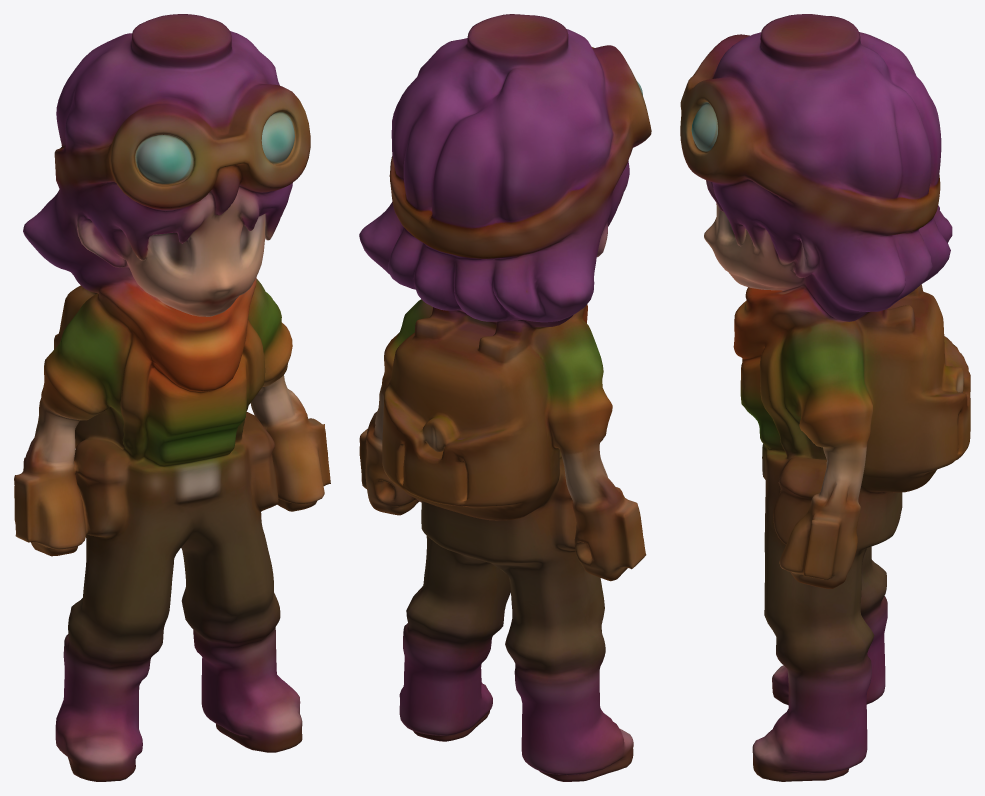
Rendered from anands-tripo-h31.glb.
3 views of the same model, side by side, from view 1: azimuth 30°, elevation 25°; view 2: azimuth 150°, elevation 25°; view 3: azimuth 270°, elevation 25° (orthographic).
Parts seen in each view (by area): view 1: tripo_node_53d81a73; view 2: tripo_node_53d81a73; view 3: tripo_node_53d81a73.
Boxes of the visible parts, bbox=[...] form: tripo_node_53d81a73: bbox=[14, 14, 330, 781]; tripo_node_53d81a73: bbox=[359, 14, 651, 781]; tripo_node_53d81a73: bbox=[680, 14, 970, 781].
Bounding box in the file's own units: 41.54 × 98.08 × 36.88.
Materials: 1 (1 with a texture image).
